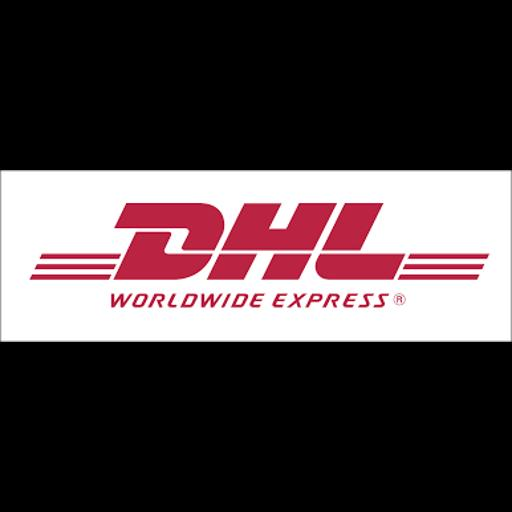DHL: (0, 170, 512, 342)
